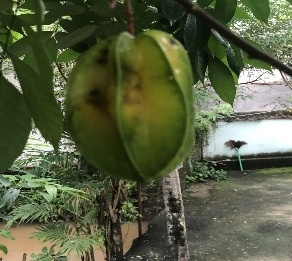Khe: (62, 26, 201, 185)
